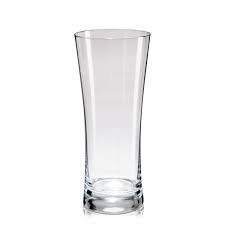glass: (71, 24, 154, 219)
